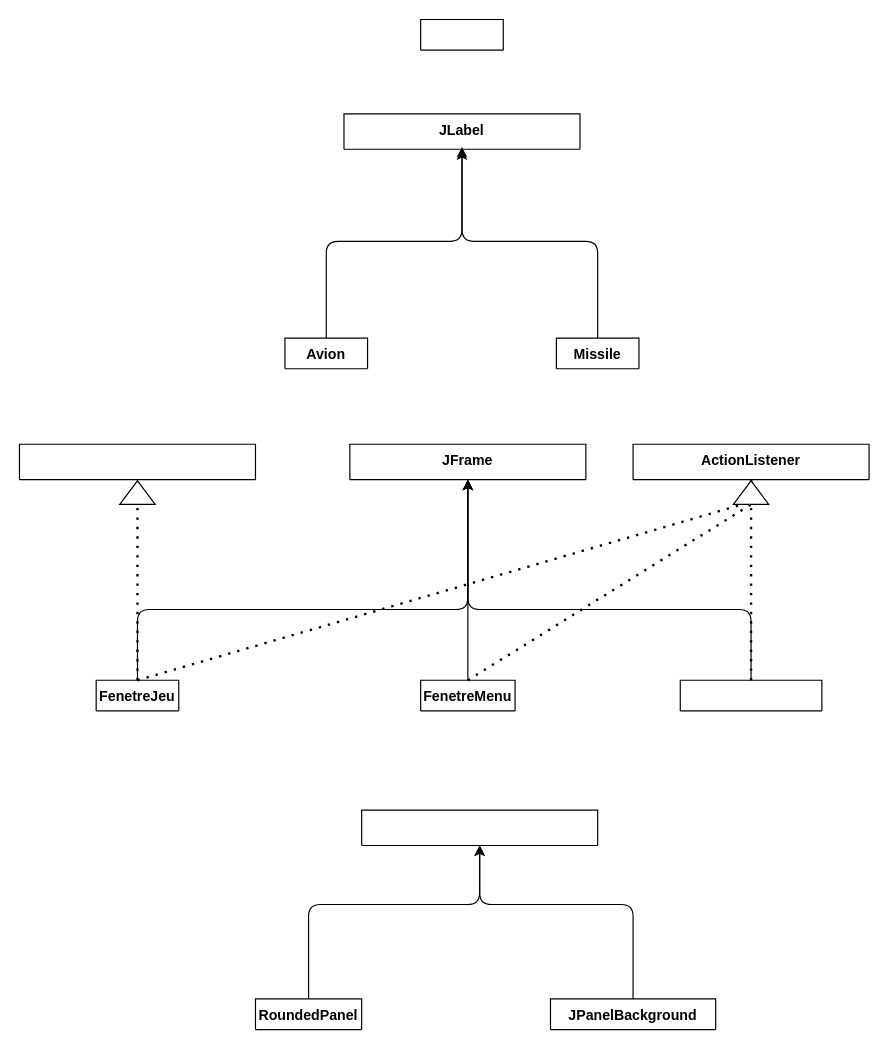
This 889x1049 diagram has some shape labels left out. Here are the shapes that lost their labels. From the top down, the centre of each, then its label:
At (461,34): "Main".
At (136,461): "KeyListener".
At (750,695): "FenetreCommandes".
At (479,827): "JPanel".
